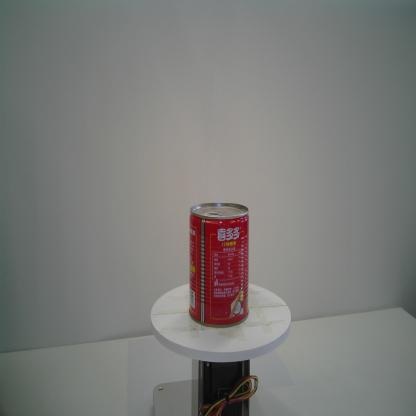Canned Food: (188, 200, 250, 329)
